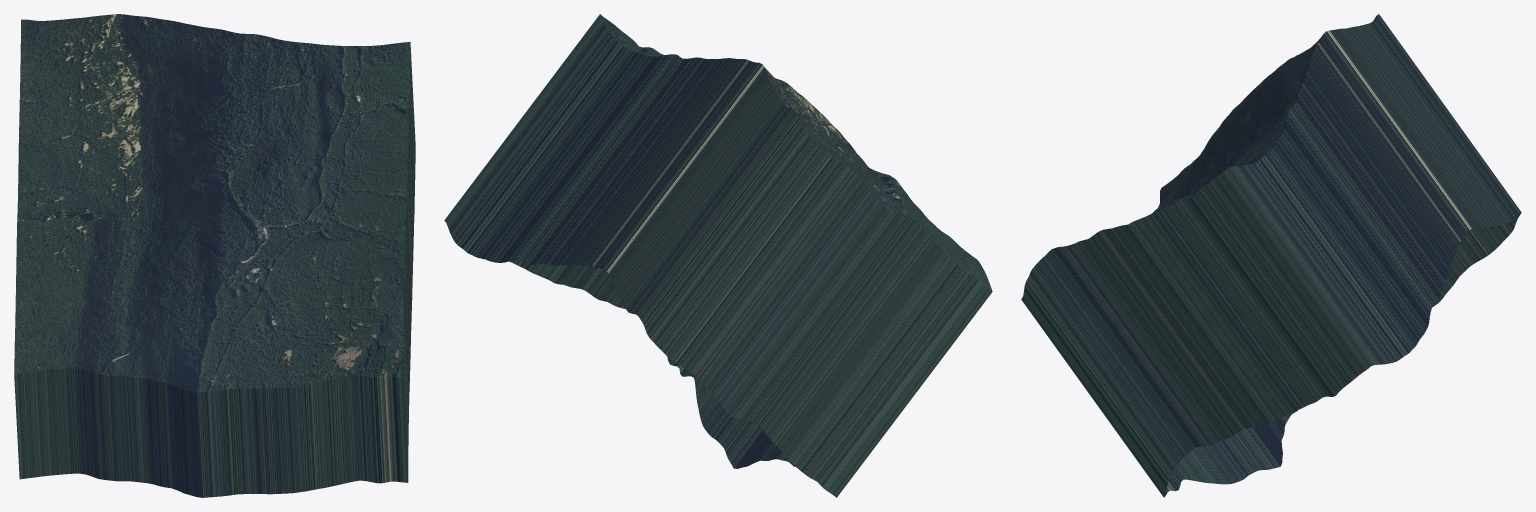
The picture shows the model from 3 angles, left to right: view 1: azimuth 30°, elevation 25°; view 2: azimuth 150°, elevation 25°; view 3: azimuth 270°, elevation 25°; orthographic projection. The views are drawn at different scales.
Bounding box in the file's own units: 6116 × 5566 × 6140.
Materials: 1 (1 with a texture image).
